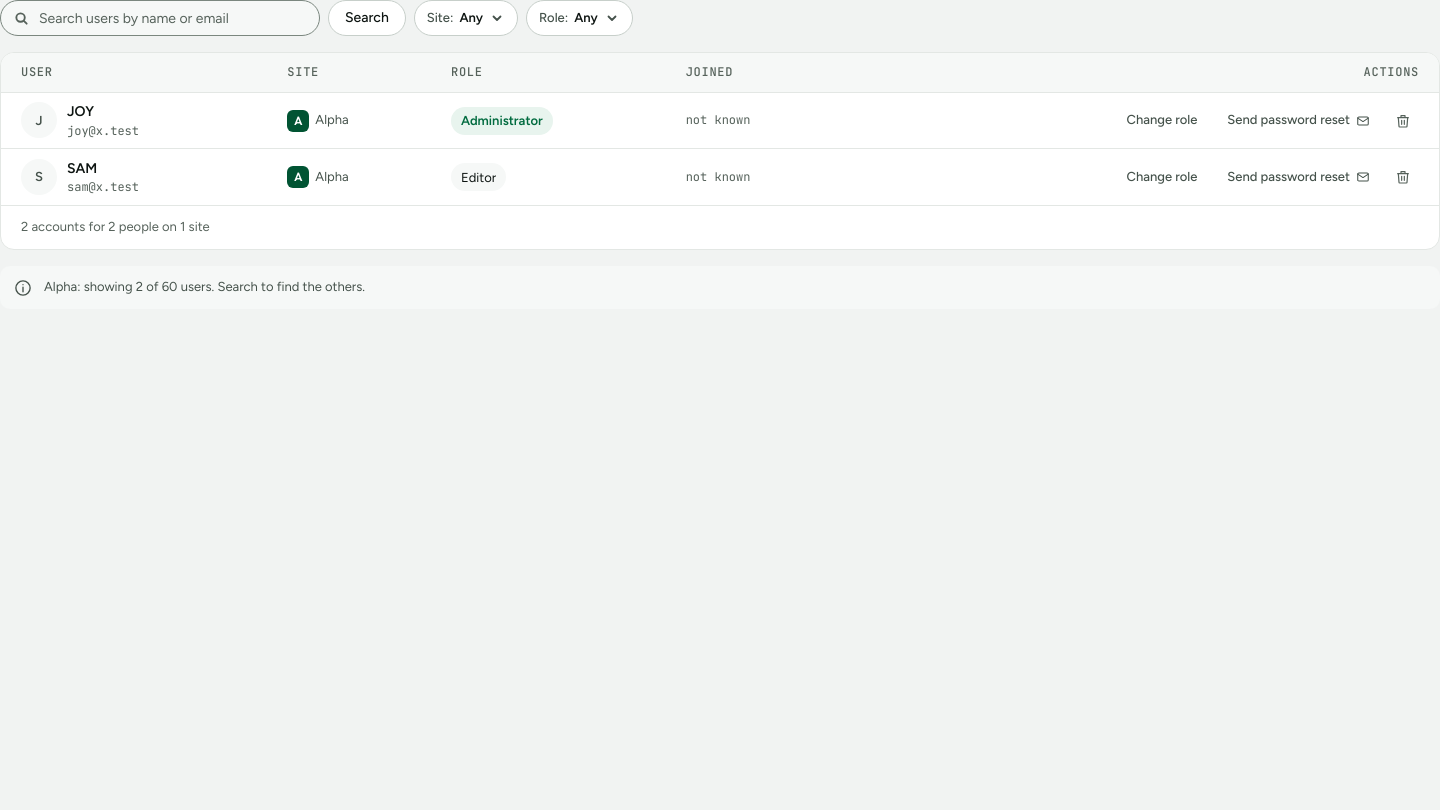
Test: Users › deletes a user and hands their content to someone from the whole site
Click the button named "Delete SAM from Alpha" at [1403, 177], box [1387,161,1419,193]
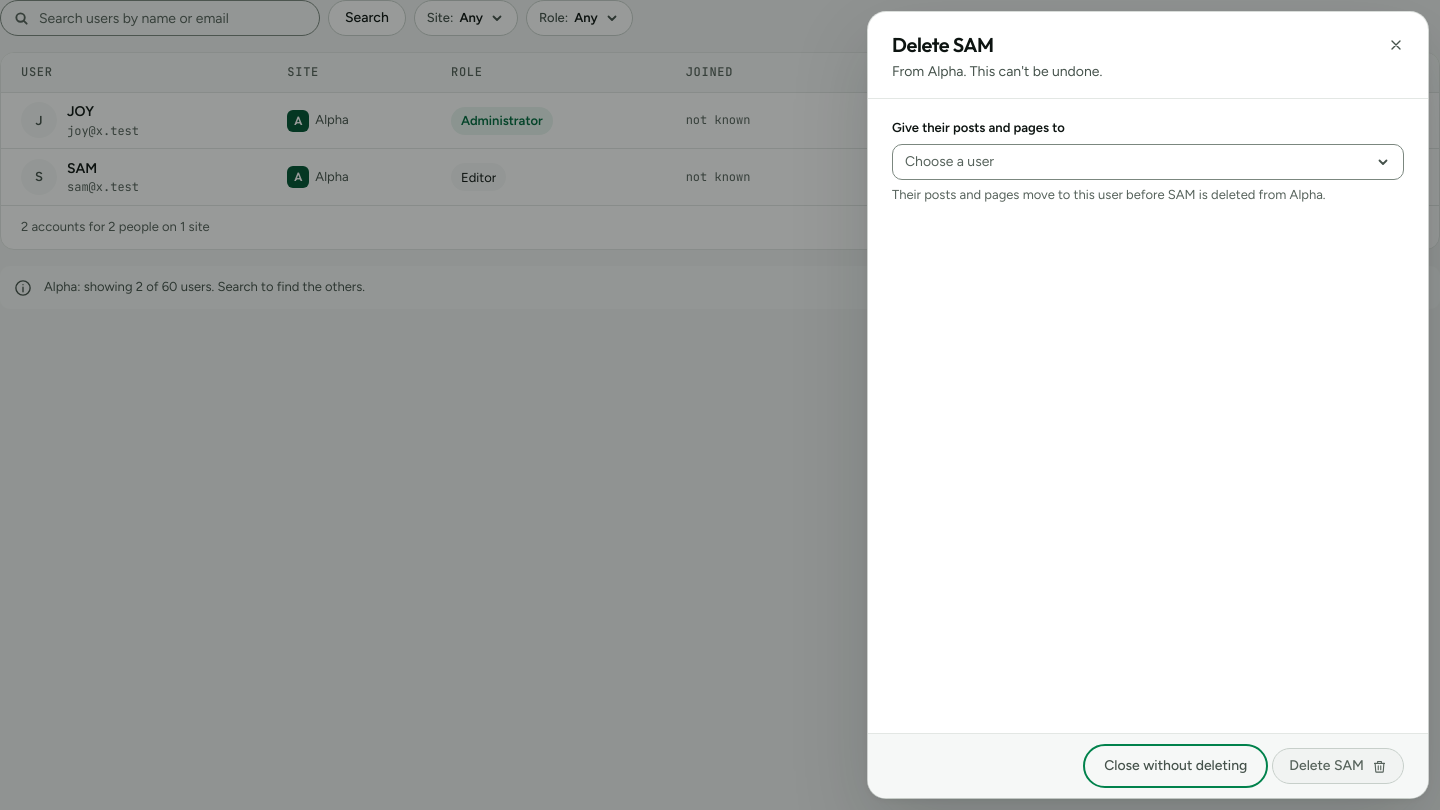
Click the dropdown named "Give their posts and pages to" at [950, 161], box [892,144,1404,180]
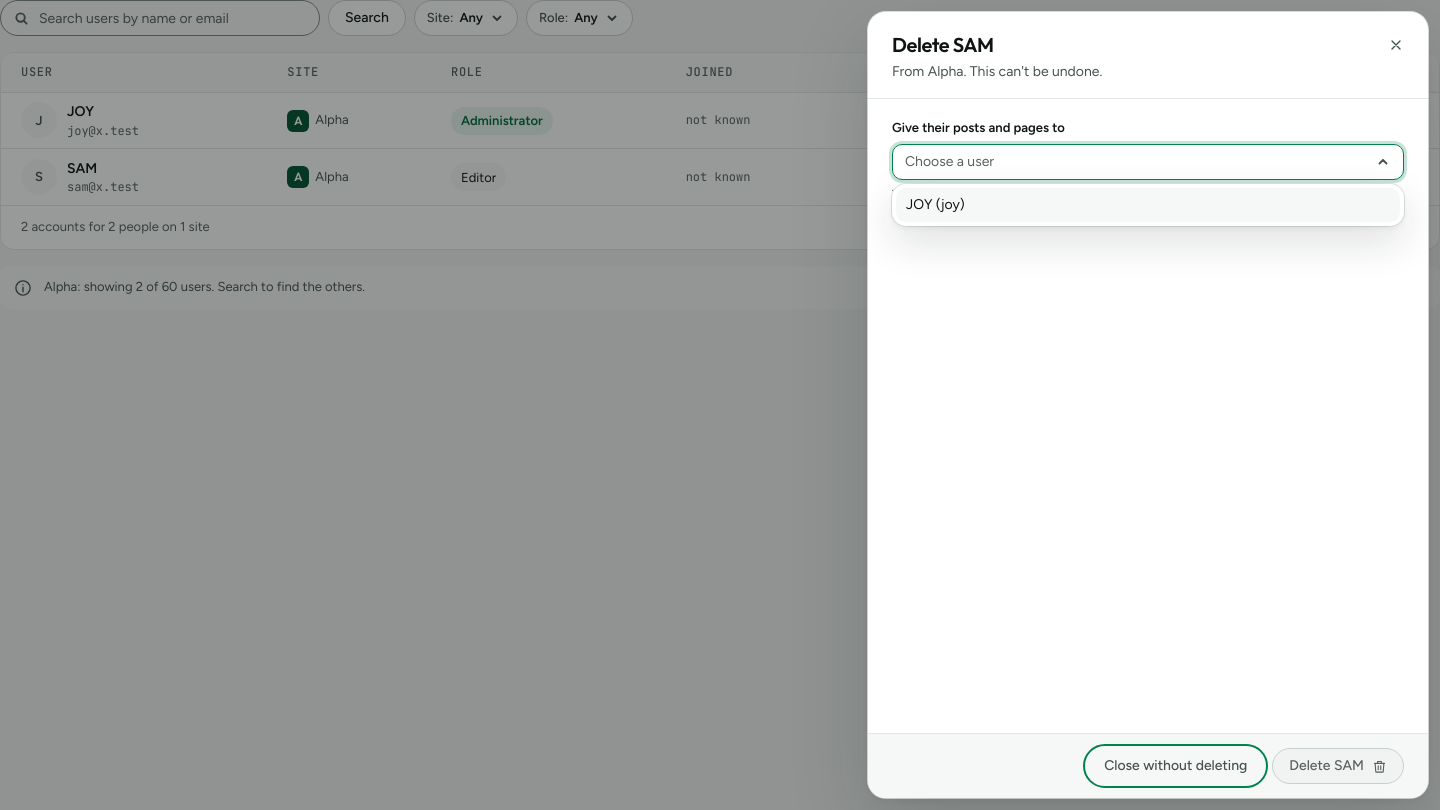
Expected: the options read "JOY (joy)", in this order, [896,188,1400,222]
Press Escape in the dropdown named "Give their posts and pages to", box [892,144,1404,180]
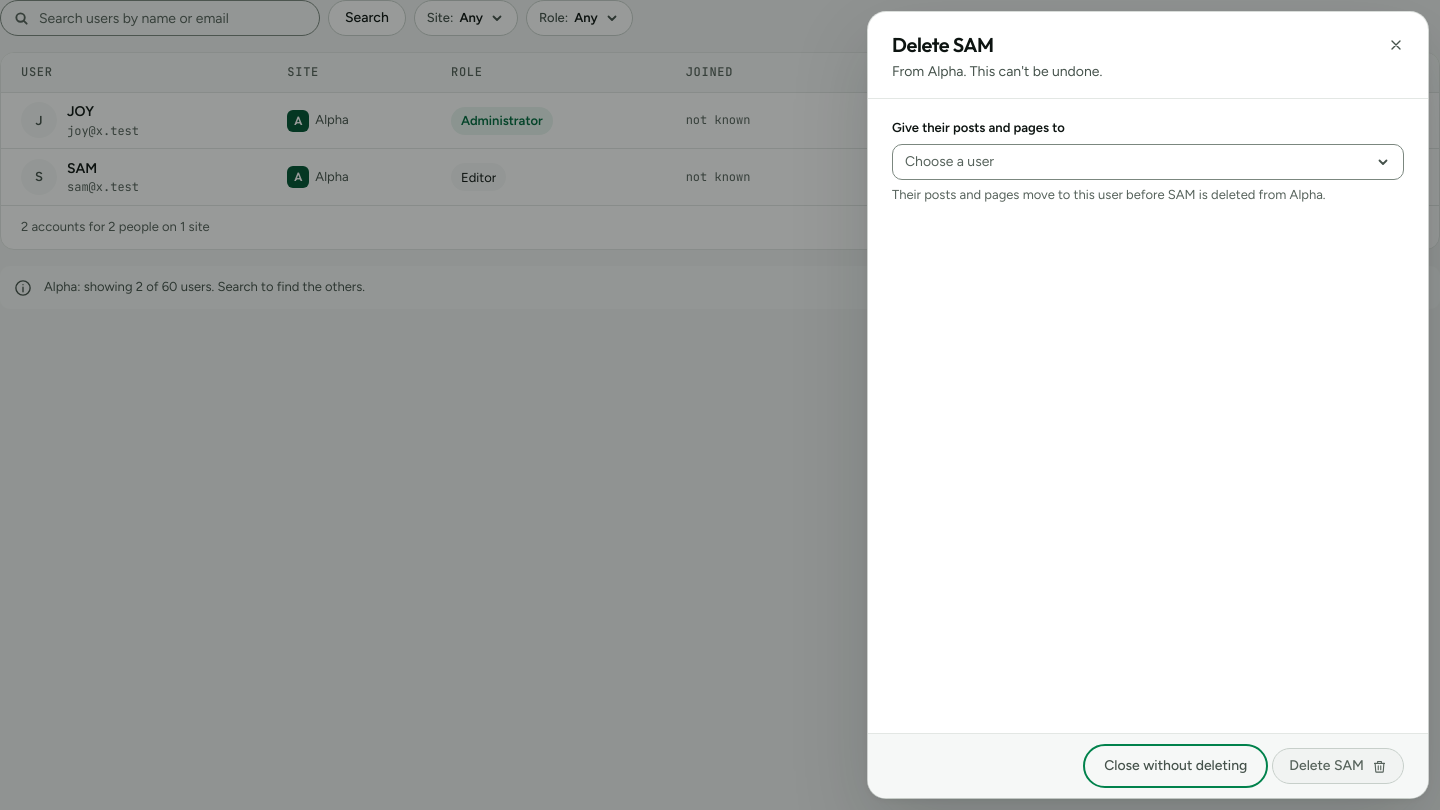
Expected: the button "Delete SAM" is disabled, [1272,748,1404,784]
Click the dropdown named "Give their posts and pages to" at [950, 161], box [892,144,1404,180]
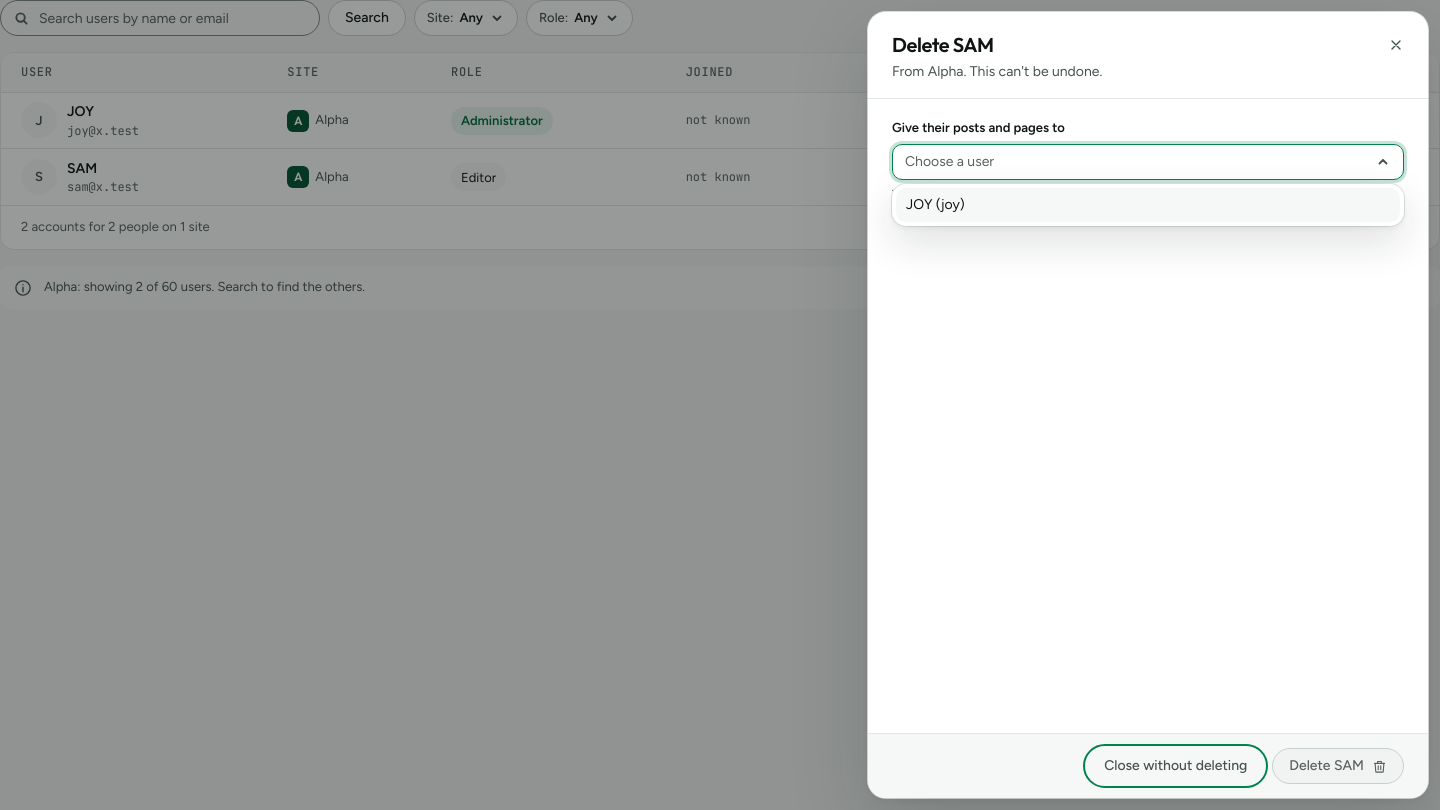
Click the option "JOY (joy)" at [919, 204], box [896,188,1400,222]
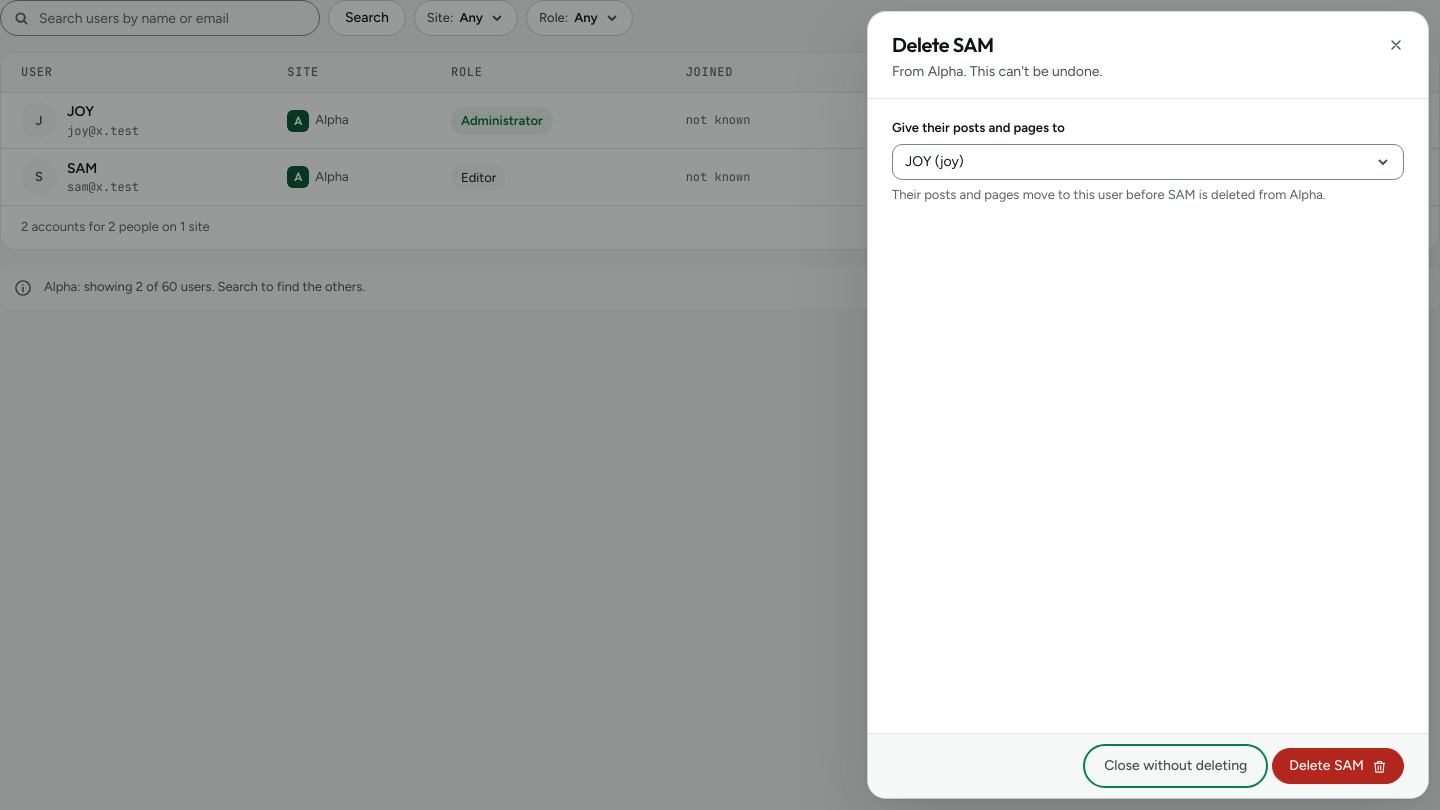
Click the button "Delete SAM" at [1338, 766], box [1272,748,1404,784]
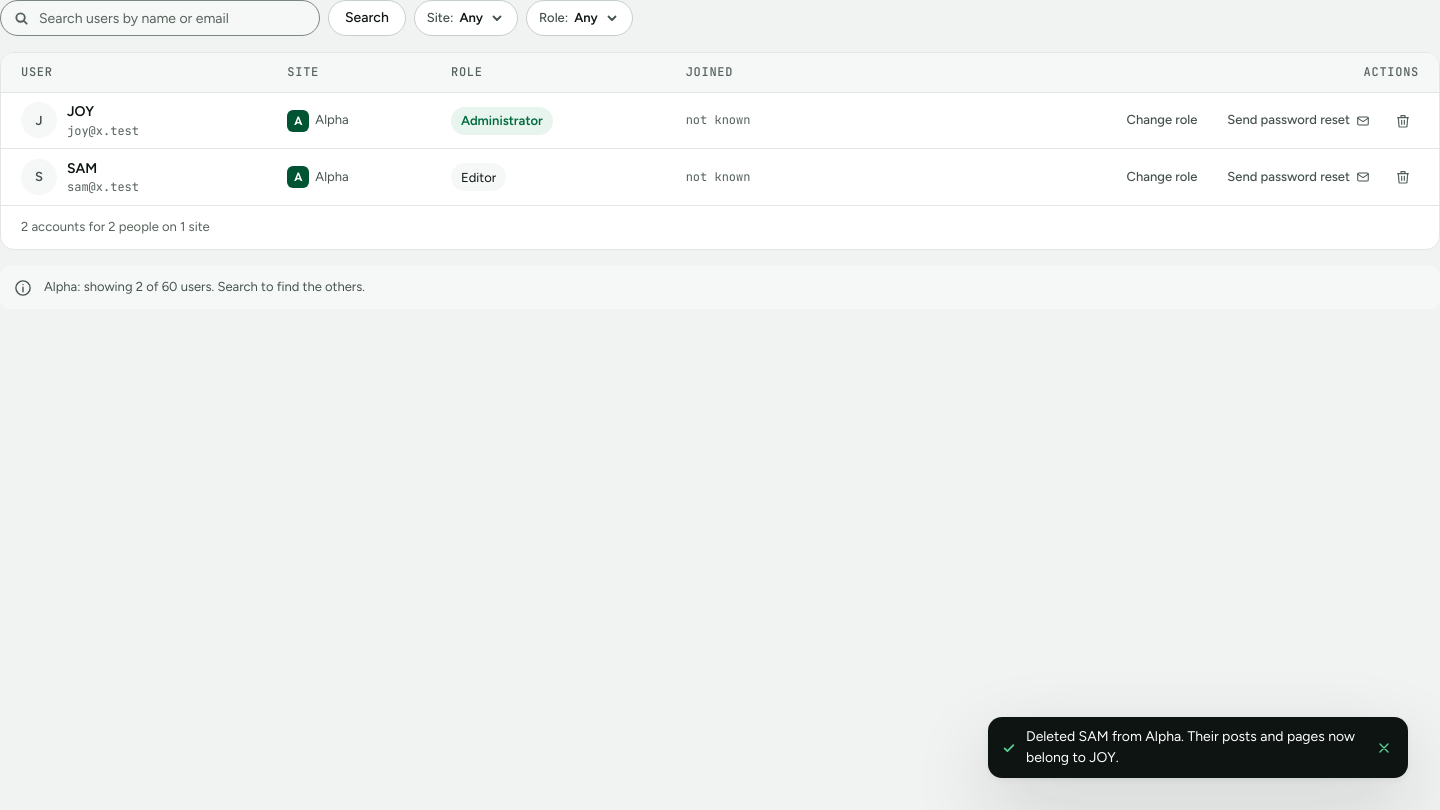
Expected: the text "Deleted SAM from Alpha. Their posts and pages now belong to JOY." is shown, [1026,727,1360,768]
